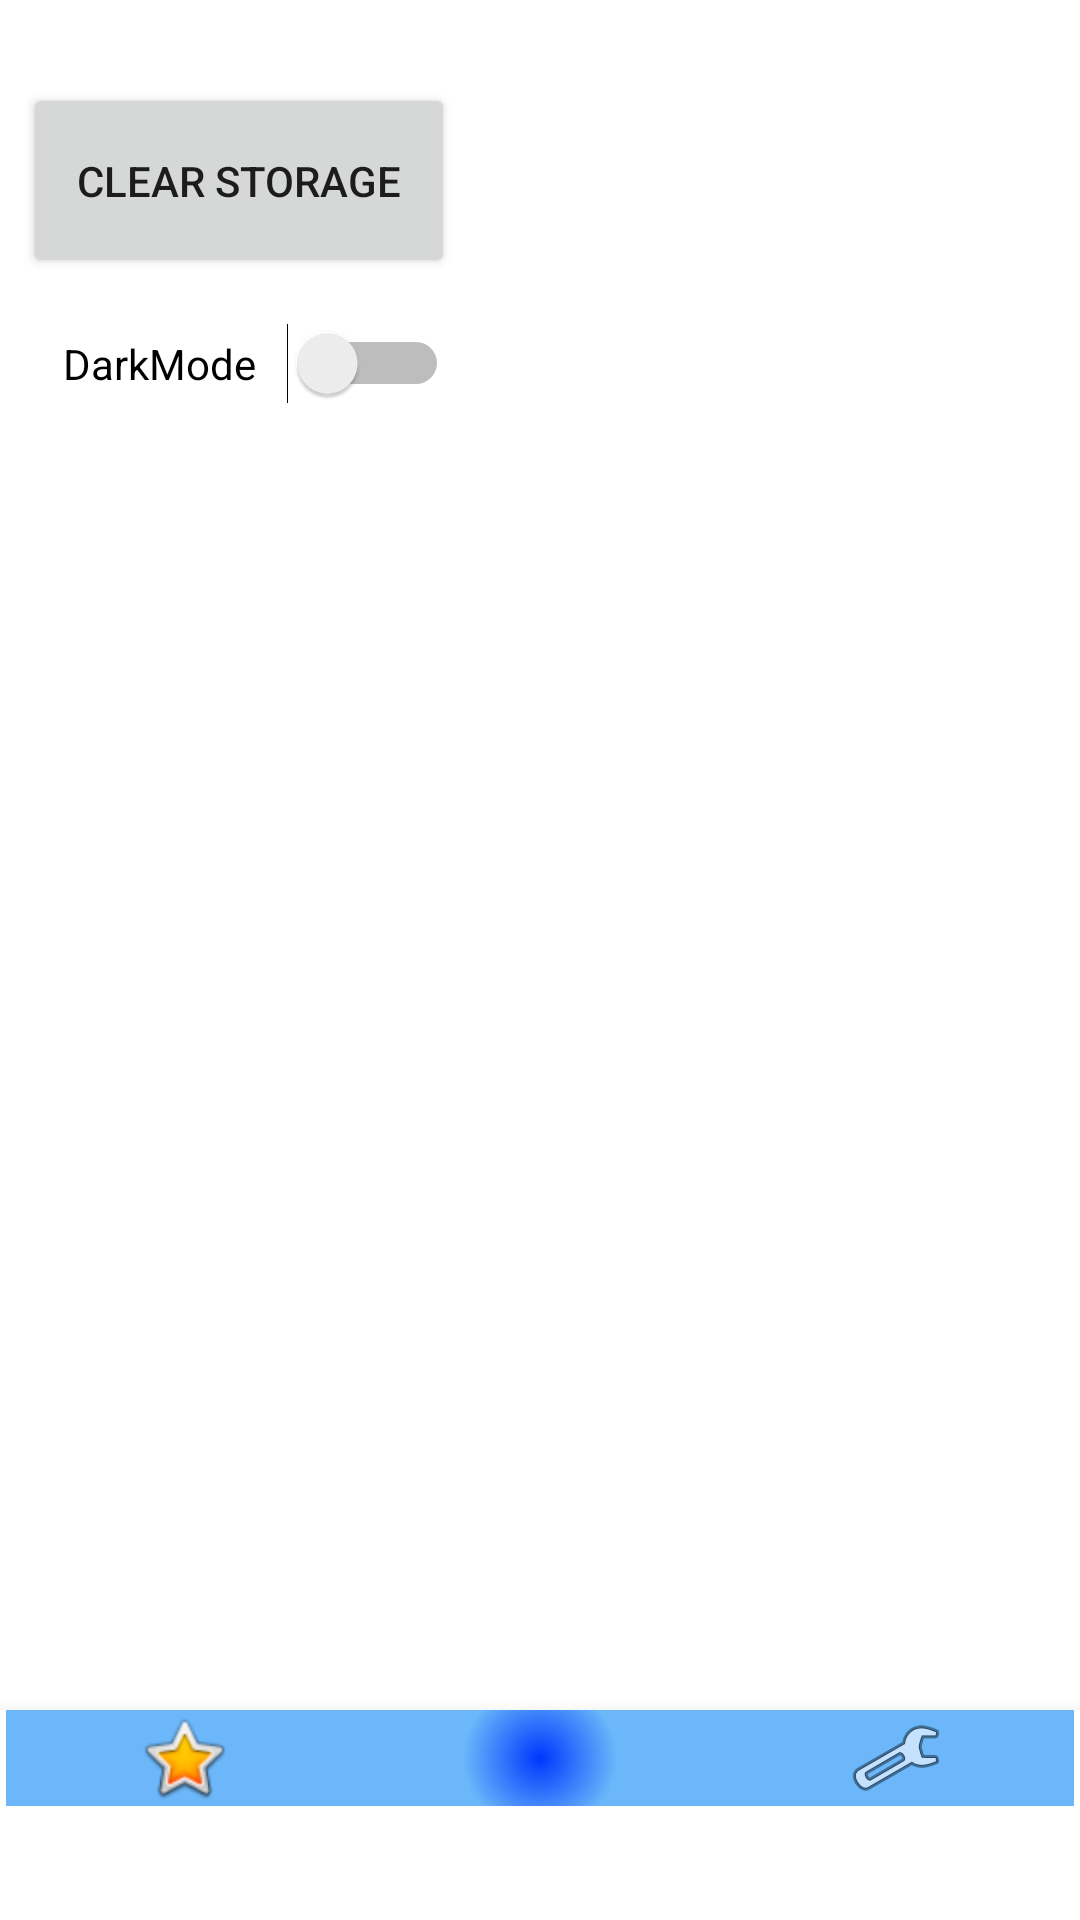

Named icons in this screenshot (1080w x 1920h) and their centers, (x,y):
manage: (896,1758)
star on: (184,1758)
